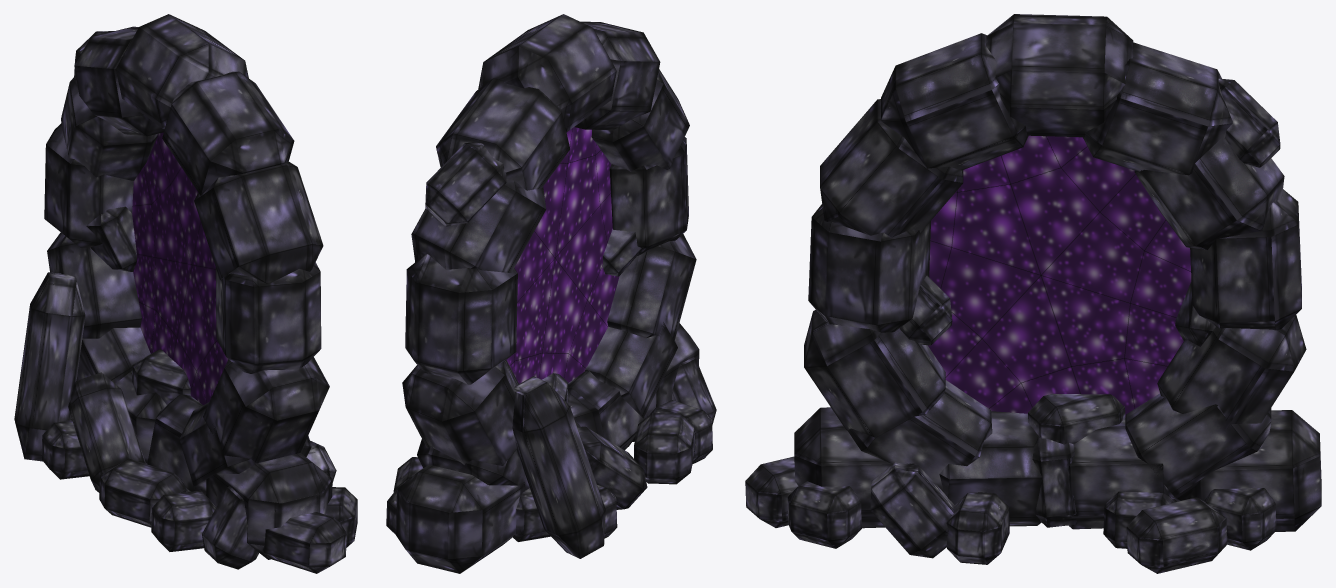
File: portal_4.fbx
3 views of the same model, side by side, from view 1: azimuth 30°, elevation 25°; view 2: azimuth 150°, elevation 25°; view 3: azimuth 270°, elevation 25° (orthographic). The views are drawn at different scales.
Visible parts, largest first — view 1: pCube1.021, pDisc1; view 2: pCube1.021, pDisc1; view 3: pCube1.021, pDisc1.
Boxes of the visible parts, x1,y1,x2,y2 form: pCube1.021: (14, 14, 357, 573); pDisc1: (132, 132, 228, 404); pCube1.021: (386, 14, 716, 573); pDisc1: (506, 127, 619, 383); pCube1.021: (745, 14, 1321, 573); pDisc1: (928, 135, 1191, 417).
Bounding box in the file's own units: 1141 × 2383 × 2443.
35 materials, 35 textured.
